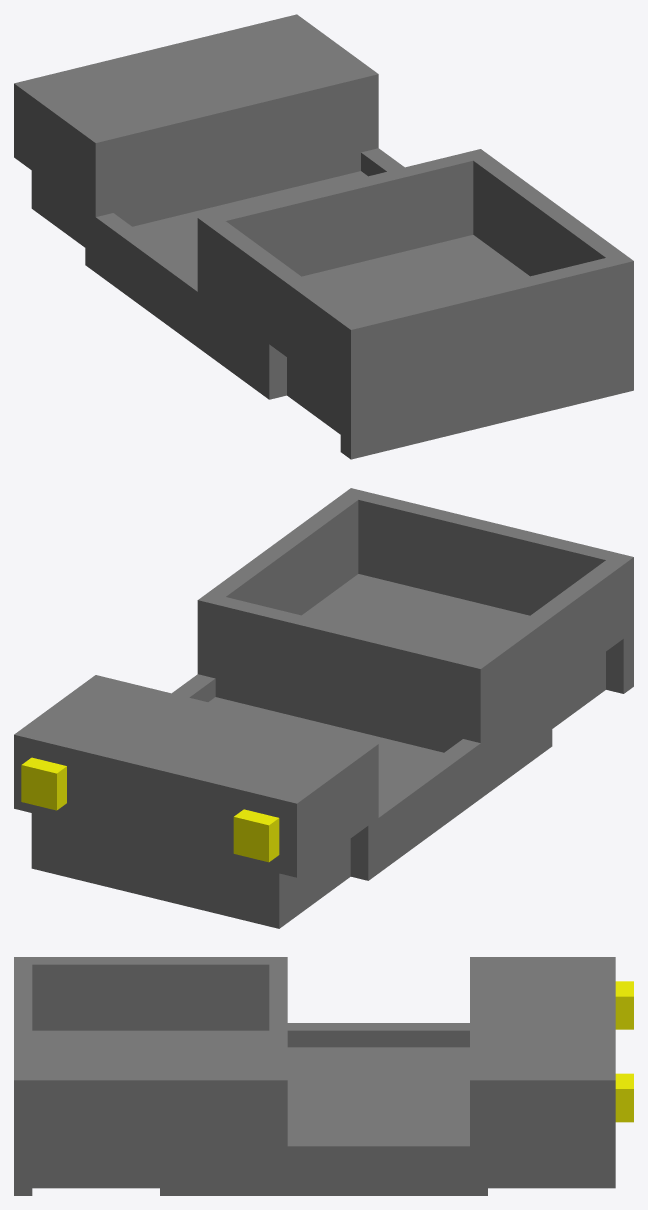
File: testcar.gltf
The picture shows the model from 3 angles, top to bottom: view 1: azimuth 30°, elevation 25°; view 2: azimuth 150°, elevation 25°; view 3: azimuth 270°, elevation 25°; orthographic projection. The views are drawn at different scales.
Parts seen in each view (by area): view 1: backpart (×7), frontpart (×2), ground; view 2: backpart (×7), frontpart (×2), ground, headlight (×2); view 3: backpart (×7), frontpart (×2), ground, headlight (×2).
Boxes of the visible parts, box(x1,y1,x2,y2) form: backpart (×7): box(85, 148, 633, 459); frontpart (×2): box(14, 14, 378, 226); ground: box(31, 171, 367, 434); backpart (×7): box(172, 488, 633, 880); frontpart (×2): box(14, 675, 378, 891); ground: box(31, 653, 605, 928); headlight (×2): box(21, 757, 279, 862); backpart (×7): box(14, 957, 487, 1195); frontpart (×2): box(470, 957, 615, 1155); ground: box(32, 1047, 615, 1188); headlight (×2): box(615, 981, 633, 1122).
Bounding box in the file's own units: 1 × 0.4375 × 2.12.
1 material, 1 textured.
